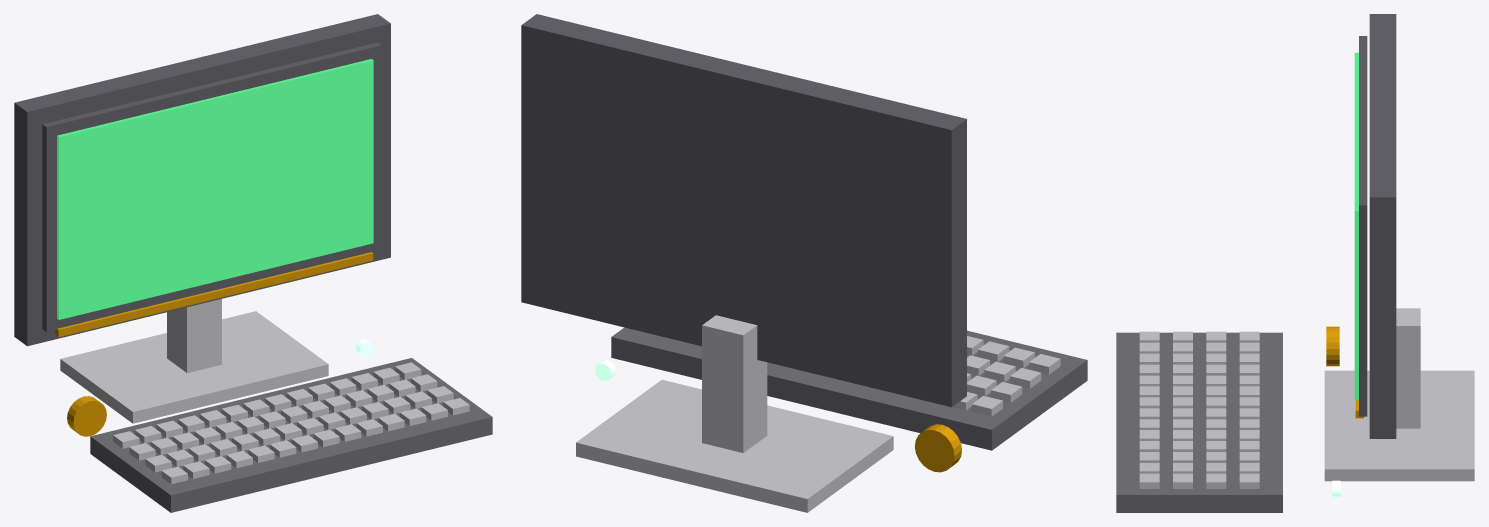
3 views of the same model, side by side, from view 1: azimuth 30°, elevation 25°; view 2: azimuth 150°, elevation 25°; view 3: azimuth 270°, elevation 25° (orthographic). The views are drawn at different scales.
Parts seen in each view (by area): view 1: screen, monitor, keyboard, foot, screen_bezel, neck, trim, knob_reset; view 2: monitor, foot, keyboard, neck, knob_reset; view 3: keyboard, foot, monitor, screen_bezel, neck, screen, knob_reset.
Part boxes in pixels (bbox=[...]): screen: bbox=[57, 59, 373, 319]; monitor: bbox=[14, 14, 390, 346]; keyboard: bbox=[90, 358, 492, 512]; foot: bbox=[60, 311, 328, 423]; screen_bezel: bbox=[42, 42, 381, 331]; neck: bbox=[167, 299, 221, 372]; trim: bbox=[54, 252, 373, 337]; knob_reset: bbox=[67, 396, 106, 436]; monitor: bbox=[521, 14, 966, 407]; foot: bbox=[576, 379, 893, 512]; keyboard: bbox=[611, 327, 1087, 450]; neck: bbox=[702, 315, 767, 452]; knob_reset: bbox=[914, 424, 961, 472]; keyboard: bbox=[1116, 332, 1282, 512]; foot: bbox=[1324, 370, 1474, 481]; monitor: bbox=[1369, 14, 1396, 438]; screen_bezel: bbox=[1359, 36, 1367, 416]; neck: bbox=[1396, 308, 1420, 428]; screen: bbox=[1354, 52, 1358, 400]; knob_reset: bbox=[1326, 326, 1339, 366].
Size of the model in its own units: 2.6 by 2.18 by 2.15.
